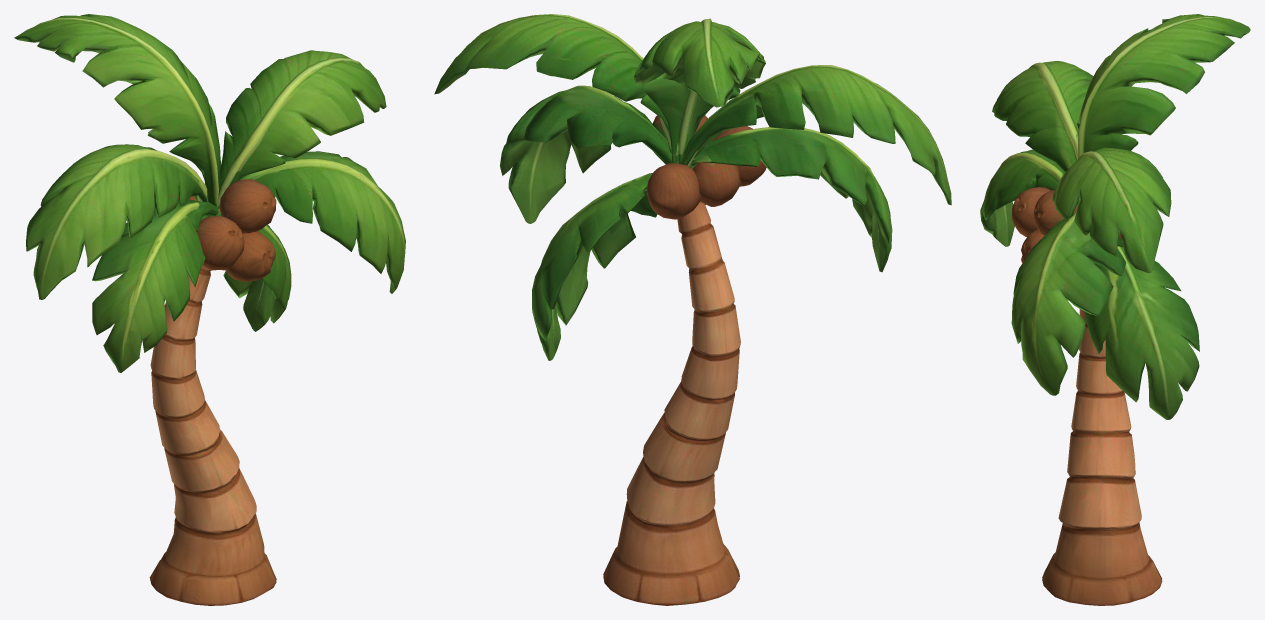
File: palm.glb
3 renders of one model, left to right at view 1: azimuth 30°, elevation 25°; view 2: azimuth 150°, elevation 25°; view 3: azimuth 270°, elevation 25°, orthographic. The views are drawn at different scales.
Visible parts, largest first — view 1: Mesh_0; view 2: Mesh_0; view 3: Mesh_0.
Part boxes in pixels (x1,y1,x2,y2): Mesh_0: [14, 14, 405, 605]; Mesh_0: [434, 14, 951, 605]; Mesh_0: [980, 14, 1250, 605].
Bounding box in the file's own units: 0.7778 × 1 × 0.4664.
Materials: 1 (1 with a texture image).
